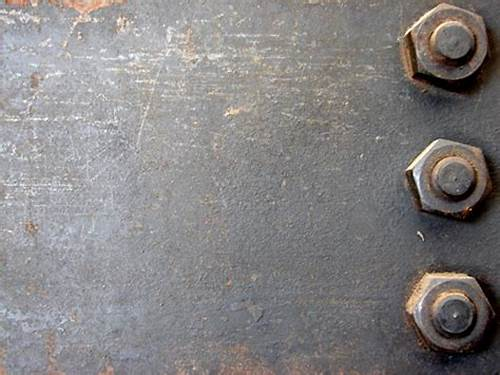bolt_b: (403, 134, 494, 224), (404, 272, 495, 358), (402, 4, 491, 88)
